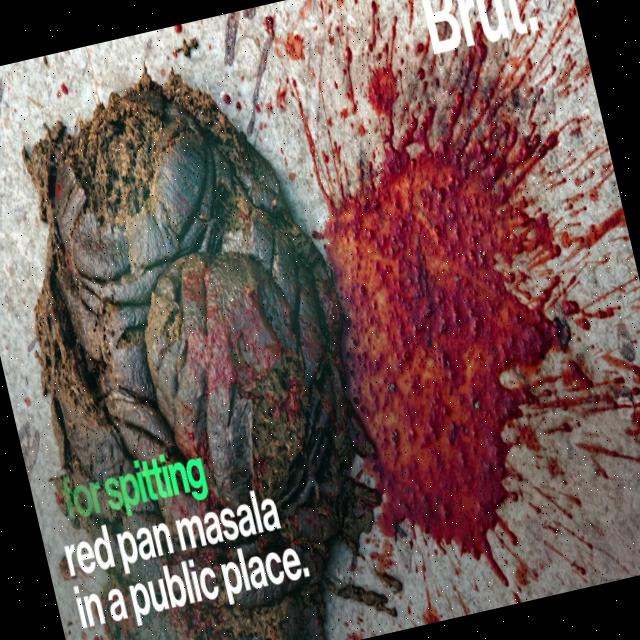spit: (314, 152, 580, 511)
